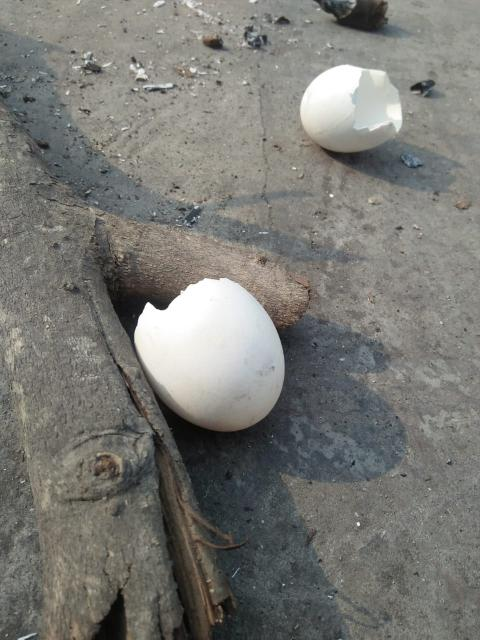Roto: (132, 276, 286, 432), (298, 63, 403, 154)
